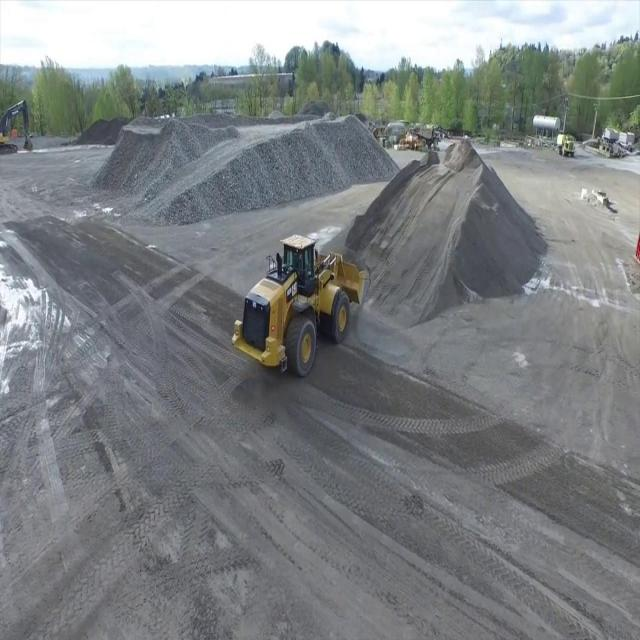Dump Truck: (556, 132, 574, 158)
Excavator: (0, 97, 34, 155)
Loader: (231, 231, 367, 378)
